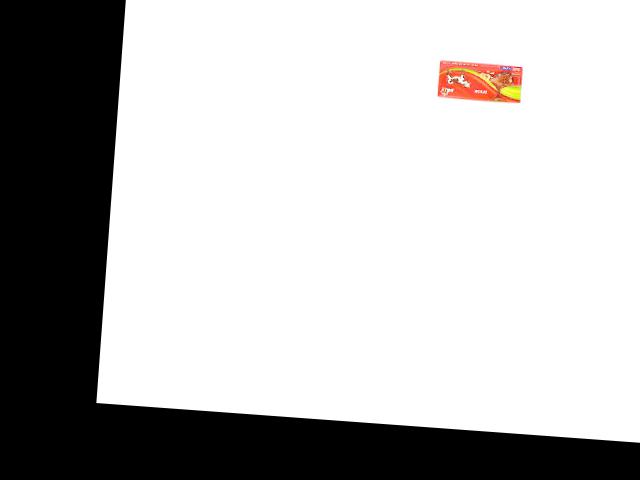chocolate: (431, 52, 525, 106)
